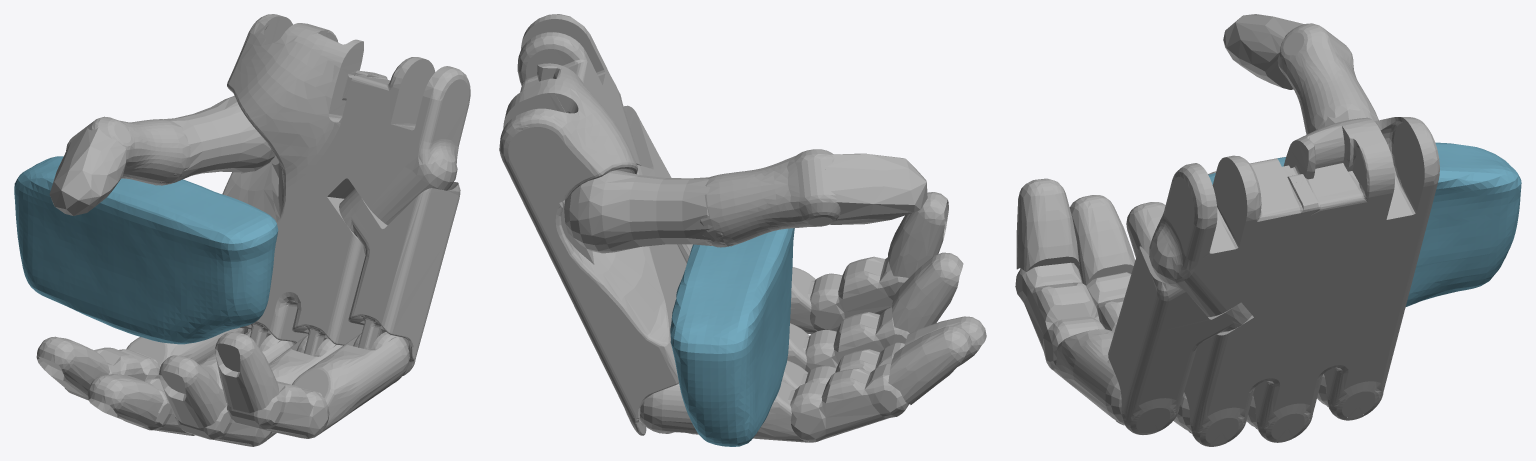
File: ugg_1.glb
3 renders of one model, left to right at view 1: azimuth 30°, elevation 25°; view 2: azimuth 150°, elevation 25°; view 3: azimuth 270°, elevation 25°, orthographic. The views are drawn at different scales.
Visible parts, largest first — view 1: world; view 2: world; view 3: world.
Boxes of the visible parts, x1,y1,x2,y2 form: world: (14, 14, 470, 446); world: (499, 14, 986, 446); world: (1015, 14, 1521, 446).
Bounding box in the file's own units: 1.06 × 0.7528 × 0.9792.
